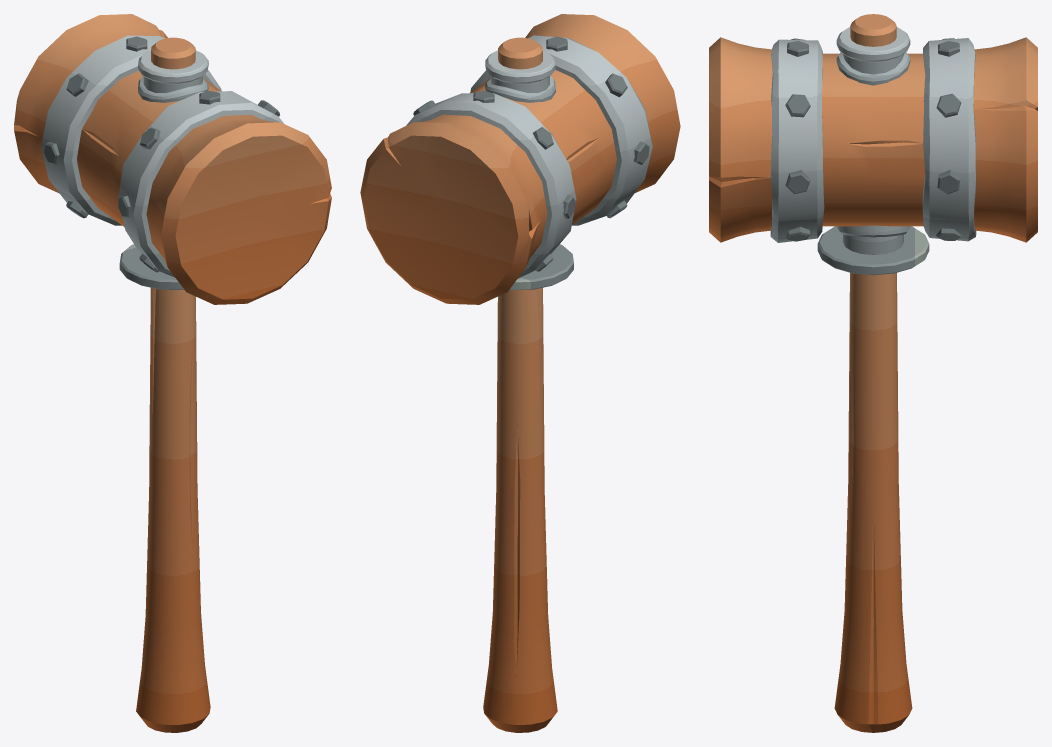
The model's file is SM_hammer.fbx.
3 renders of one model, left to right at view 1: azimuth 30°, elevation 25°; view 2: azimuth 150°, elevation 25°; view 3: azimuth 270°, elevation 25°, orthographic. The views are drawn at different scales.
Parts seen in each view (by area): view 1: SM_hammer; view 2: SM_hammer; view 3: SM_hammer.
Part boxes in pixels (bbox=[...]): SM_hammer: bbox=[14, 14, 331, 732]; SM_hammer: bbox=[360, 14, 680, 732]; SM_hammer: bbox=[709, 14, 1037, 732].
Bounding box in the file's own units: 34.8 × 128 × 54.44.
1 material, 1 textured.
